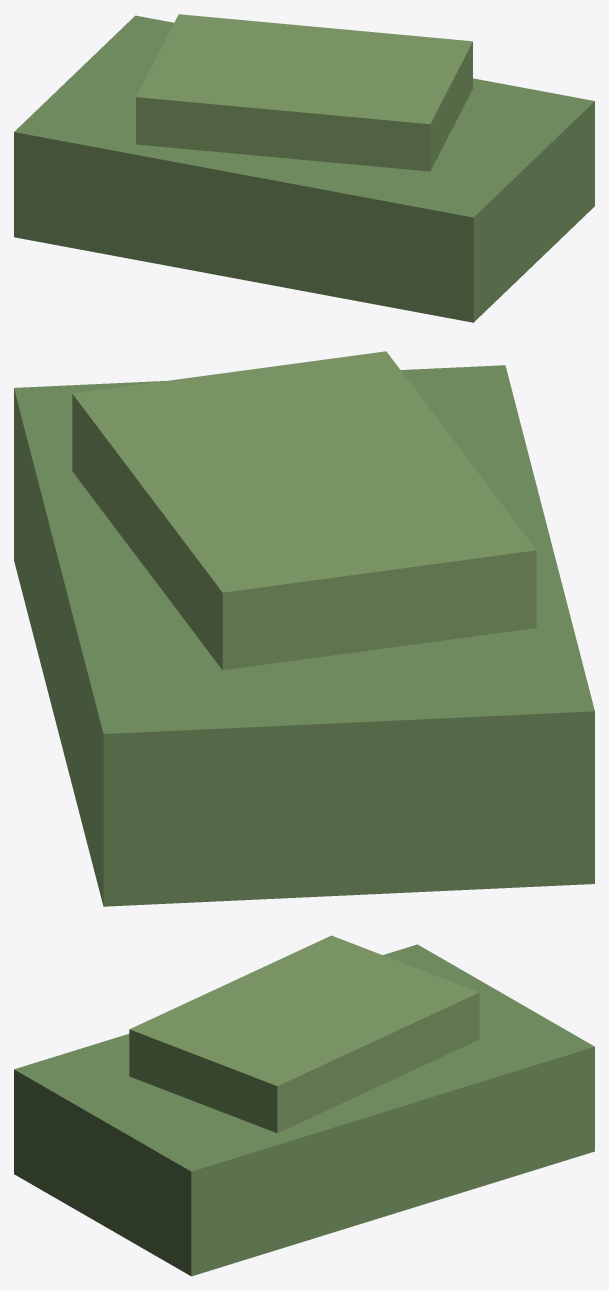
File: structure.glb
3 renders of one model, top to bottom at view 1: azimuth 30°, elevation 25°; view 2: azimuth 150°, elevation 25°; view 3: azimuth 270°, elevation 25°, orthographic. The views are drawn at different scales.
Parts seen in each view (by area): view 1: Box1, Box2; view 2: Box1, Box2; view 3: Box1, Box2.
Boxes of the visible parts, left/top/right/bottom form: Box1: left=14, top=15, right=594, bottom=322; Box2: left=136, top=14, right=472, bottom=171; Box1: left=14, top=365, right=594, bottom=906; Box2: left=72, top=351, right=536, bottom=670; Box1: left=14, top=944, right=594, bottom=1276; Box2: left=129, top=935, right=479, bottom=1133.
Bounding box in the file's own units: 120 × 37.51 × 130.
